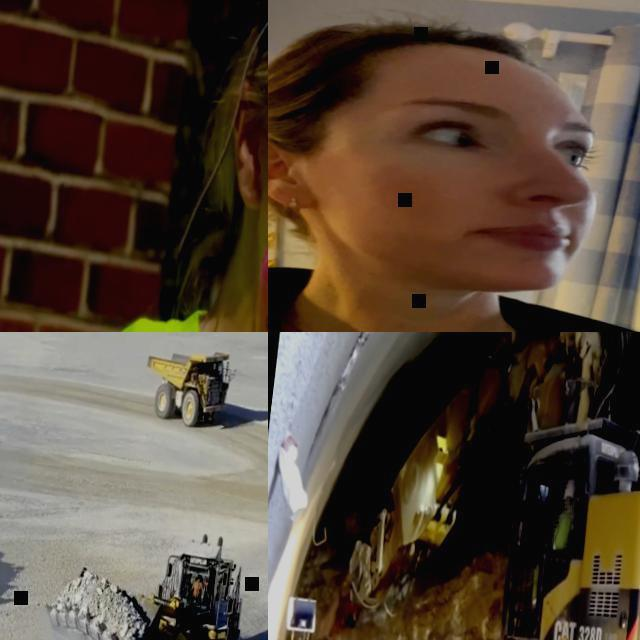helmet: (562, 477, 576, 501)
machinery: (282, 332, 640, 640), (22, 508, 259, 640), (136, 334, 240, 434)
no_helmet: (268, 0, 577, 100), (196, 576, 201, 582)
no_mask: (268, 134, 596, 304)
no_vest: (191, 584, 201, 600)
person: (268, 0, 640, 332), (0, 0, 268, 332), (514, 471, 579, 640), (186, 576, 205, 600)
vest: (550, 508, 573, 552)
